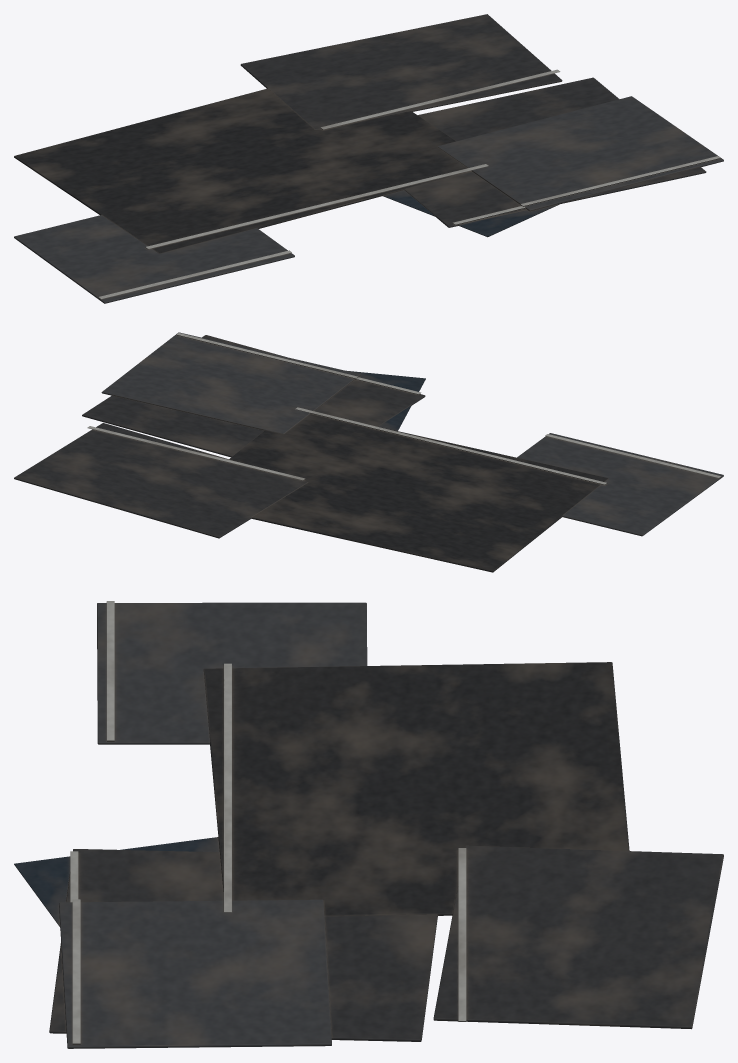
The model's file is dach_lata.glb.
3 renders of one model, top to bottom at view 1: azimuth 30°, elevation 25°; view 2: azimuth 150°, elevation 25°; view 3: azimuth 270°, elevation 25°, orthographic. The views are drawn at different scales.
Parts seen in each view (by area): view 1: Lata; view 2: Lata; view 3: Lata.
Boxes of the visible parts, x1=… form: Lata: x1=14, y1=14, x2=723, y2=303; Lata: x1=14, y1=332, x2=723, y2=572; Lata: x1=14, y1=601, x2=723, y2=1048.
Bounding box in the file's own units: 3.92 × 0.026 × 2.64.
Materials: 1 (1 with a texture image).
